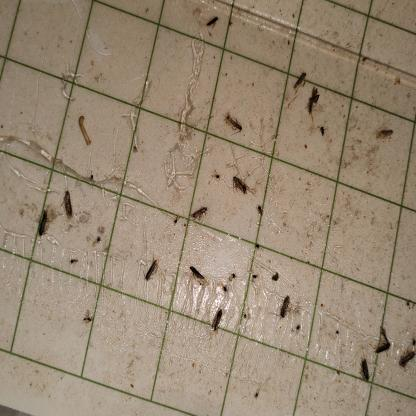prays_oleae: (398, 340, 416, 384), (206, 304, 227, 340), (374, 325, 393, 364), (32, 205, 52, 241), (220, 109, 244, 138), (303, 83, 322, 119), (138, 254, 160, 285), (290, 62, 310, 96), (60, 187, 76, 227), (274, 289, 292, 324), (204, 9, 226, 37), (374, 122, 396, 150), (233, 171, 252, 202), (356, 355, 372, 391), (188, 204, 210, 230), (187, 262, 206, 290), (78, 307, 94, 334), (68, 252, 82, 272)
